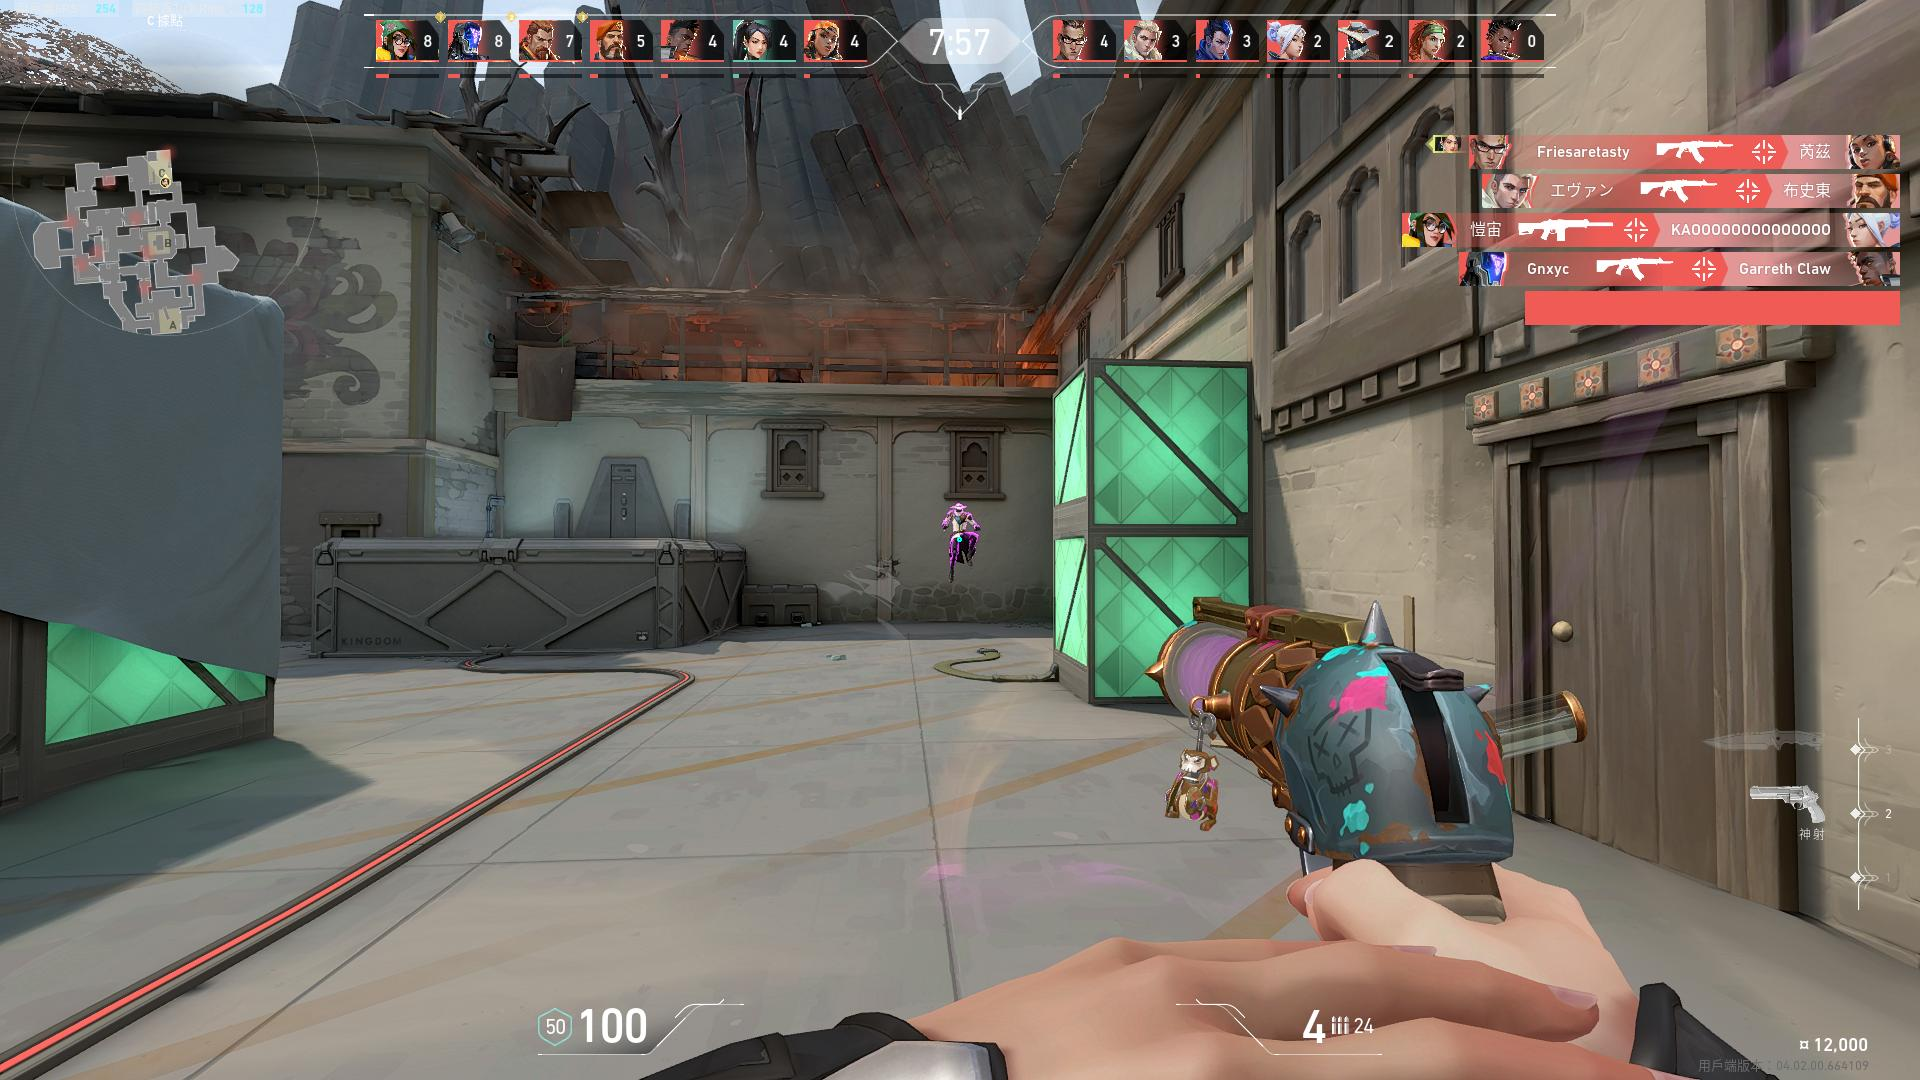enemyBody: (953, 514, 964, 531)
enemyHead: (955, 506, 963, 513)
